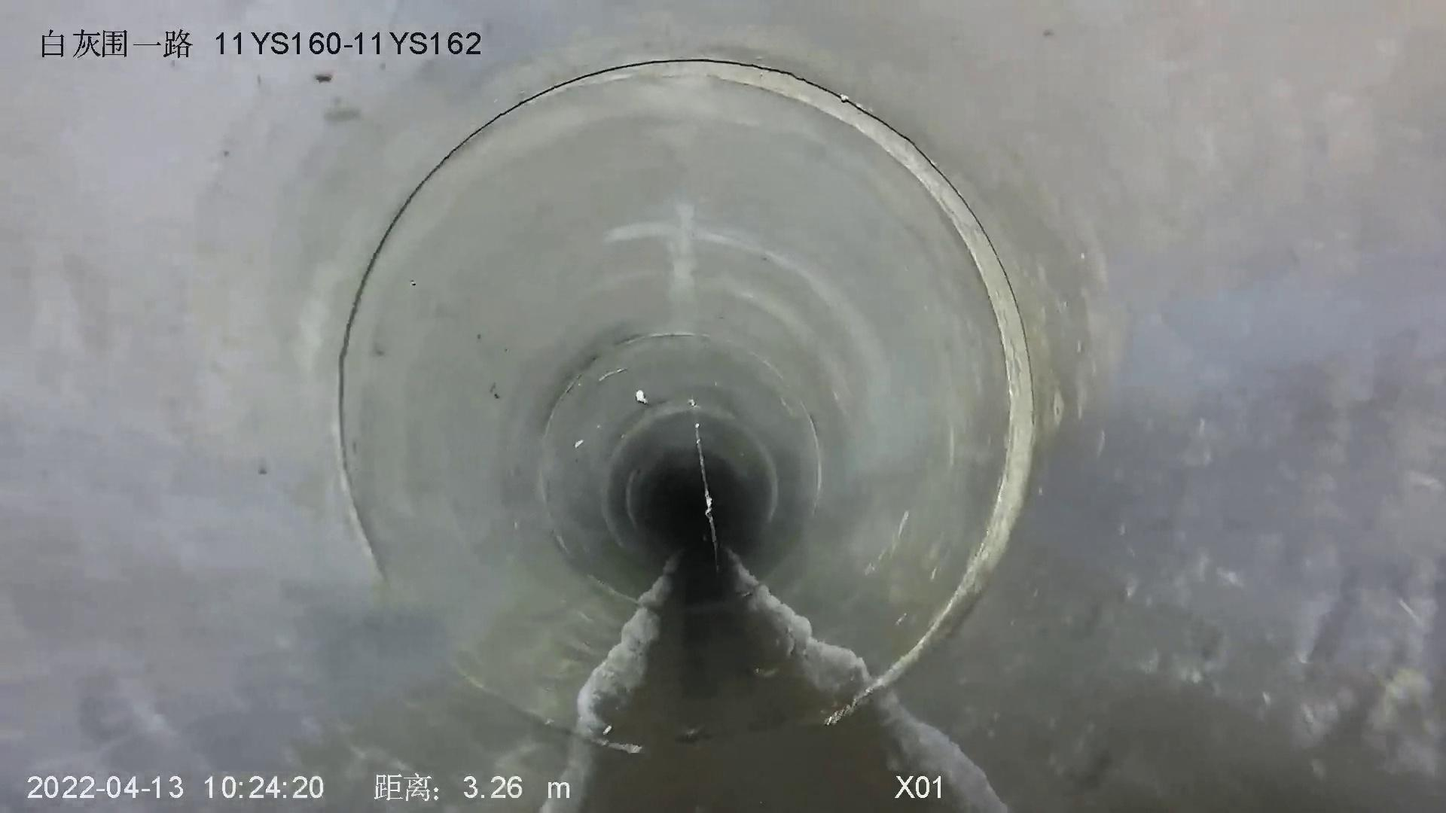CKTJ: (365, 58, 1035, 699)
